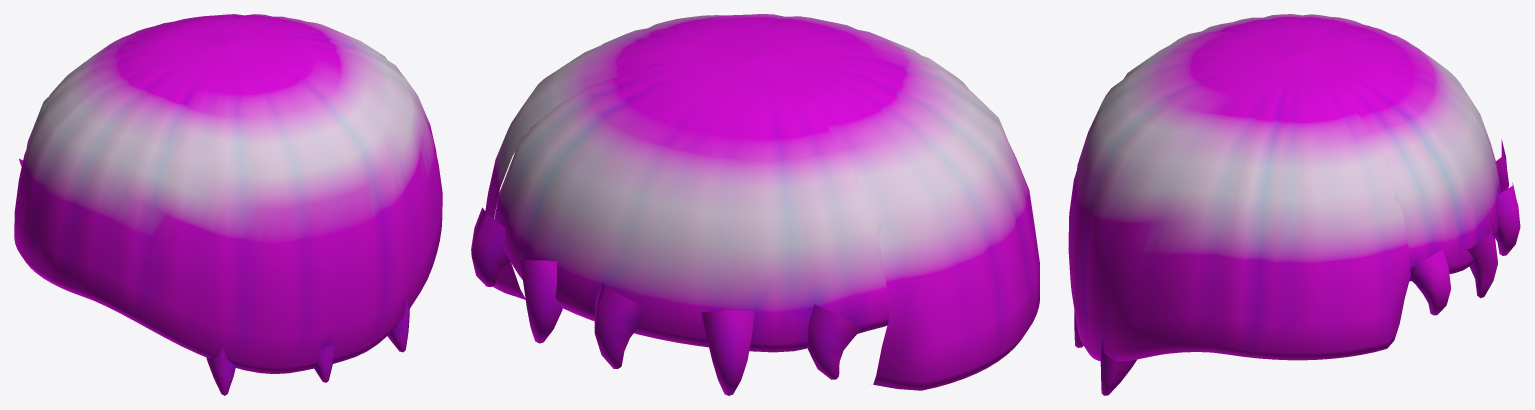
File: short_mid.glb
3 views of the same model, side by side, from view 1: azimuth 30°, elevation 25°; view 2: azimuth 150°, elevation 25°; view 3: azimuth 270°, elevation 25° (orthographic). The views are drawn at different scales.
Parts seen in each view (by area): view 1: short; view 2: short; view 3: short.
Part boxes in pixels (bbox=[...]): short: bbox=[14, 14, 442, 395]; short: bbox=[471, 14, 1039, 395]; short: bbox=[1068, 14, 1520, 395].
Size of the model in its own units: 0.9262 by 0.6146 by 0.8569.
